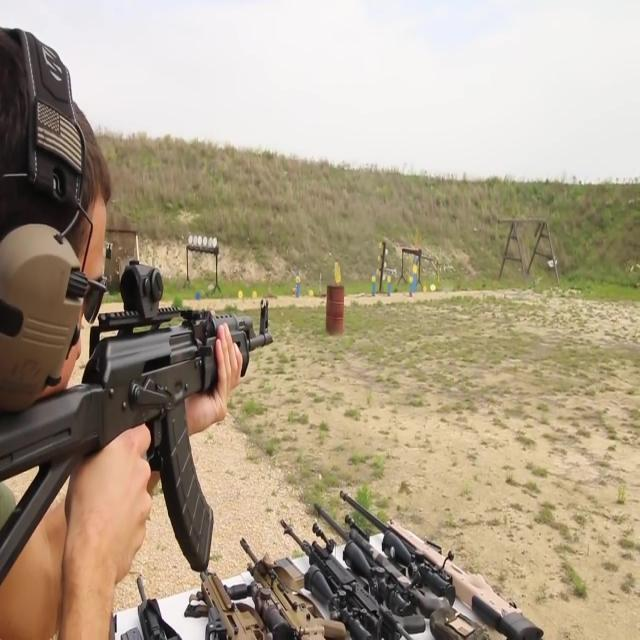Weapon: (60, 427, 573, 640), (0, 221, 284, 574)
